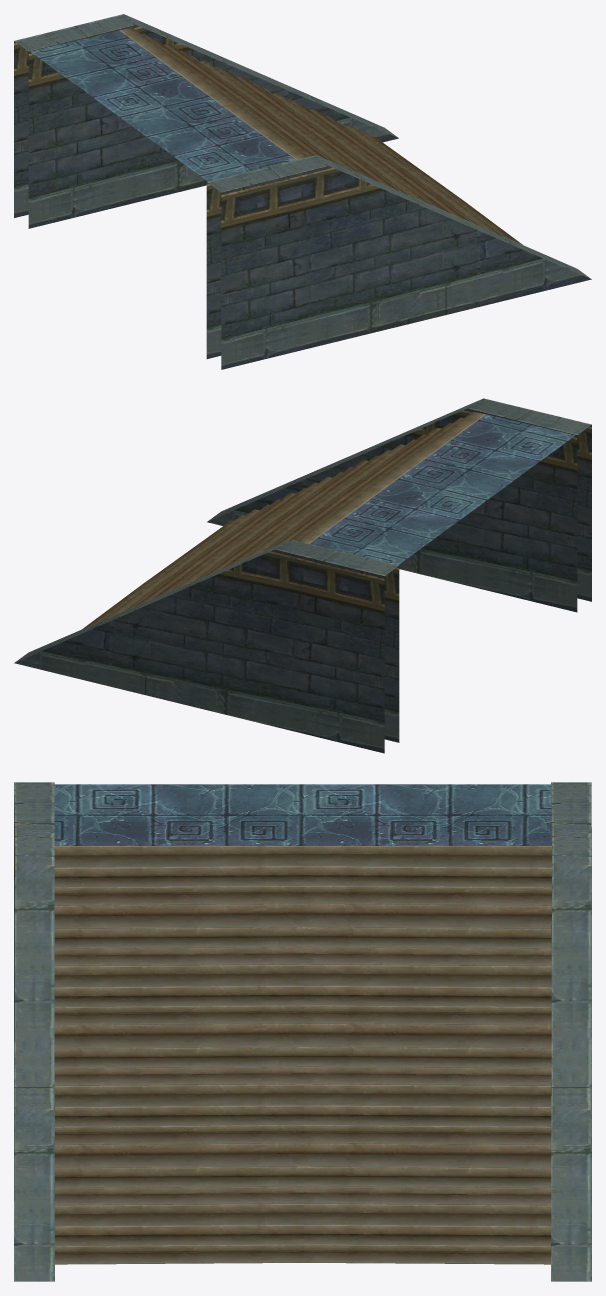
File: environment_Building_sea_001_h.FBX
3 renders of one model, top to bottom at view 1: azimuth 30°, elevation 25°; view 2: azimuth 150°, elevation 25°; view 3: azimuth 270°, elevation 25°, orthographic. The views are drawn at different scales.
Parts seen in each view (by area): view 1: environment_Building_sea_001_h02, environment_Building_sea_001_h01, environment_Building_sea_001_h03; view 2: environment_Building_sea_001_h02, environment_Building_sea_001_h01, environment_Building_sea_001_h03; view 3: environment_Building_sea_001_h03, environment_Building_sea_001_h02, environment_Building_sea_001_h01.
Part boxes in pixels (x1,y1,x2,y2): environment_Building_sea_001_h02: (14, 14, 591, 369); environment_Building_sea_001_h01: (30, 30, 295, 181); environment_Building_sea_001_h03: (119, 27, 522, 244); environment_Building_sea_001_h02: (14, 398, 591, 753); environment_Building_sea_001_h01: (310, 414, 575, 565); environment_Building_sea_001_h03: (83, 411, 485, 628); environment_Building_sea_001_h03: (54, 846, 551, 1264); environment_Building_sea_001_h02: (14, 782, 591, 1281); environment_Building_sea_001_h01: (54, 784, 551, 845).
Size of the model in its own units: 508 by 232 by 492.
Materials: 3 (3 with a texture image).
